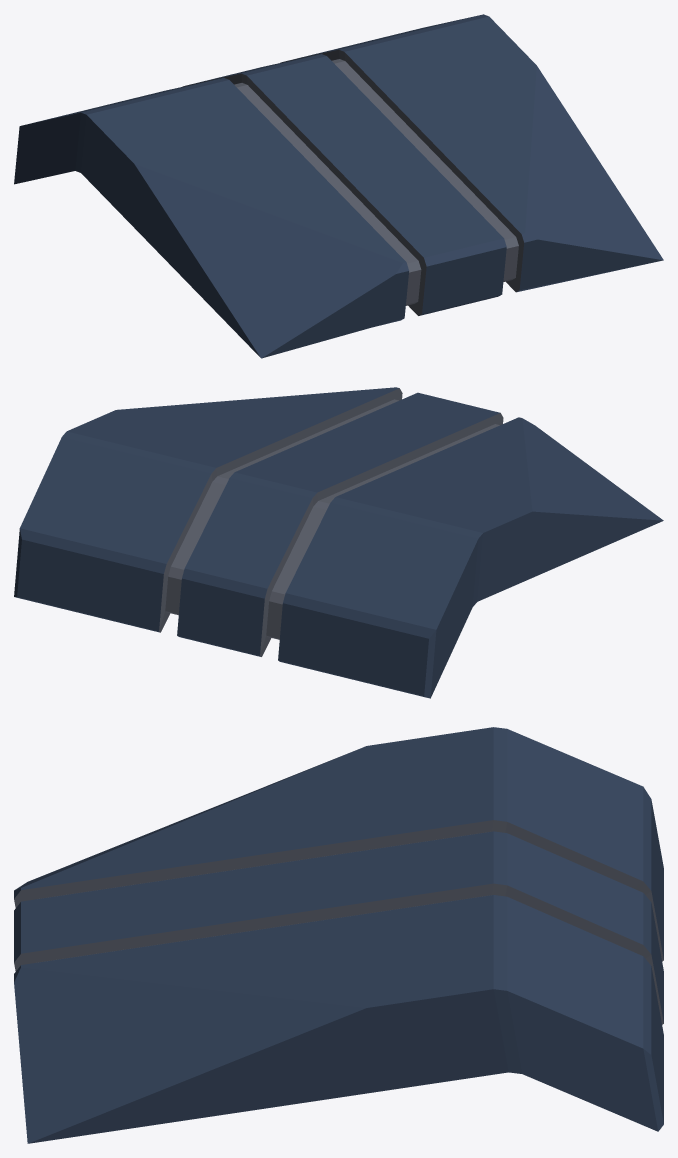
The model's file is 大门第二层-锅炉_003.fbx.
3 views of the same model, one above another, from view 1: azimuth 30°, elevation 25°; view 2: azimuth 150°, elevation 25°; view 3: azimuth 270°, elevation 25° (orthographic). The views are drawn at different scales.
Parts seen in each view (by area): view 1: 大门第二层-锅炉.003; view 2: 大门第二层-锅炉.003; view 3: 大门第二层-锅炉.003.
Part boxes in pixels (bbox=[...]): 大门第二层-锅炉.003: bbox=[14, 14, 663, 358]; 大门第二层-锅炉.003: bbox=[14, 387, 663, 698]; 大门第二层-锅炉.003: bbox=[14, 727, 663, 1143].
Size of the model in its own units: 3.07 by 0.8223 by 3.13.
